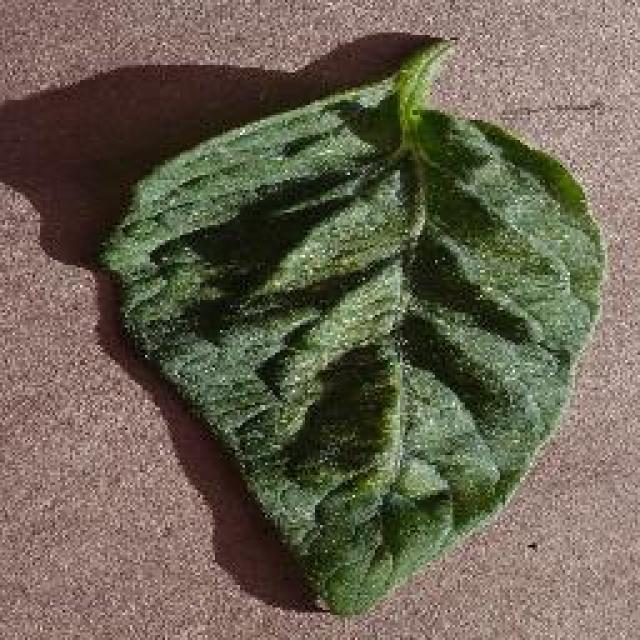Tomato___Spider_mites Two-spotted_spider_mite: (102, 40, 602, 612)
